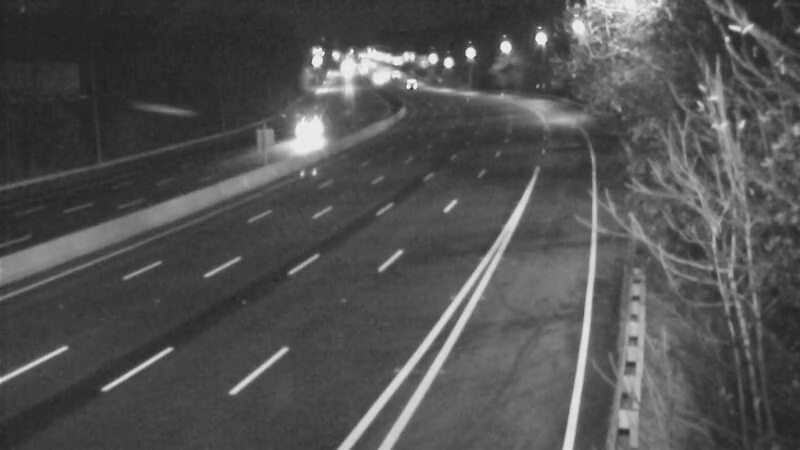vehicle: (382, 57, 432, 107), (357, 56, 407, 106), (291, 109, 341, 159)
